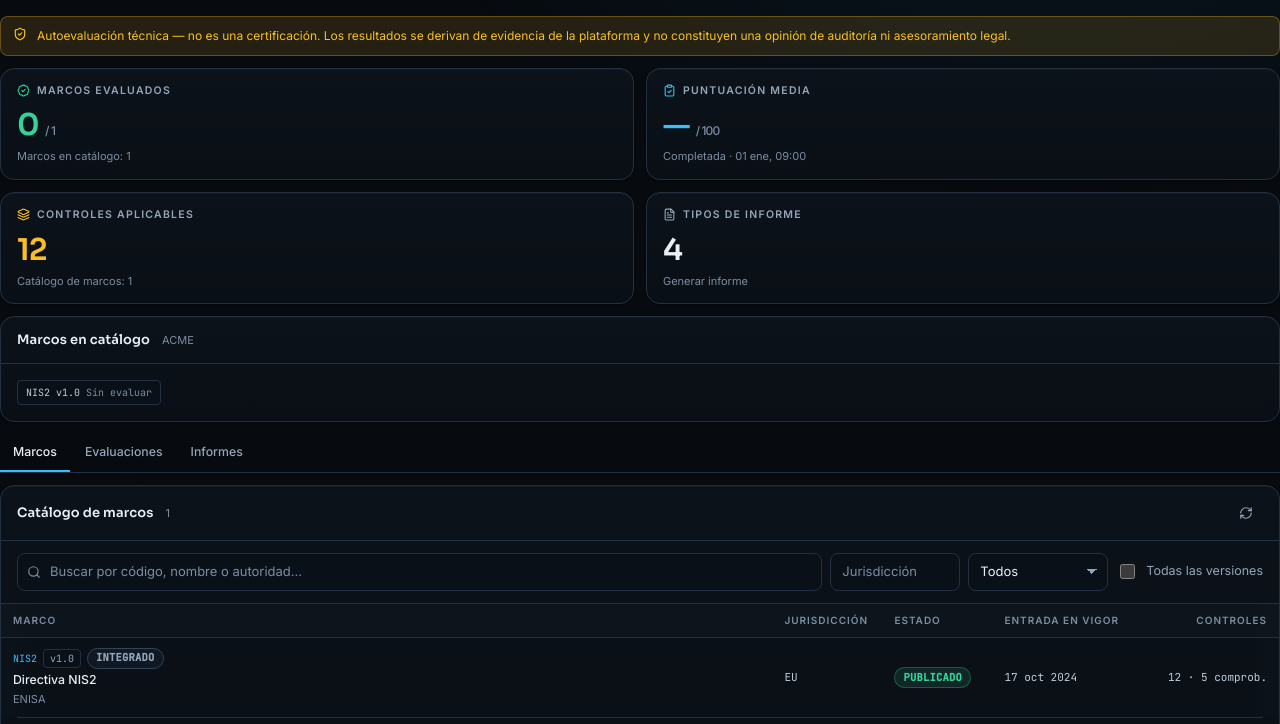
CompliancePage › loads assessments when the assessments tab is selected
Check: the text "Directiva NIS2" is shown, box [13,672,96,686]
Click the tab "Evaluaciones": click(124, 453) [72,434,176,472]
(page scrolled)
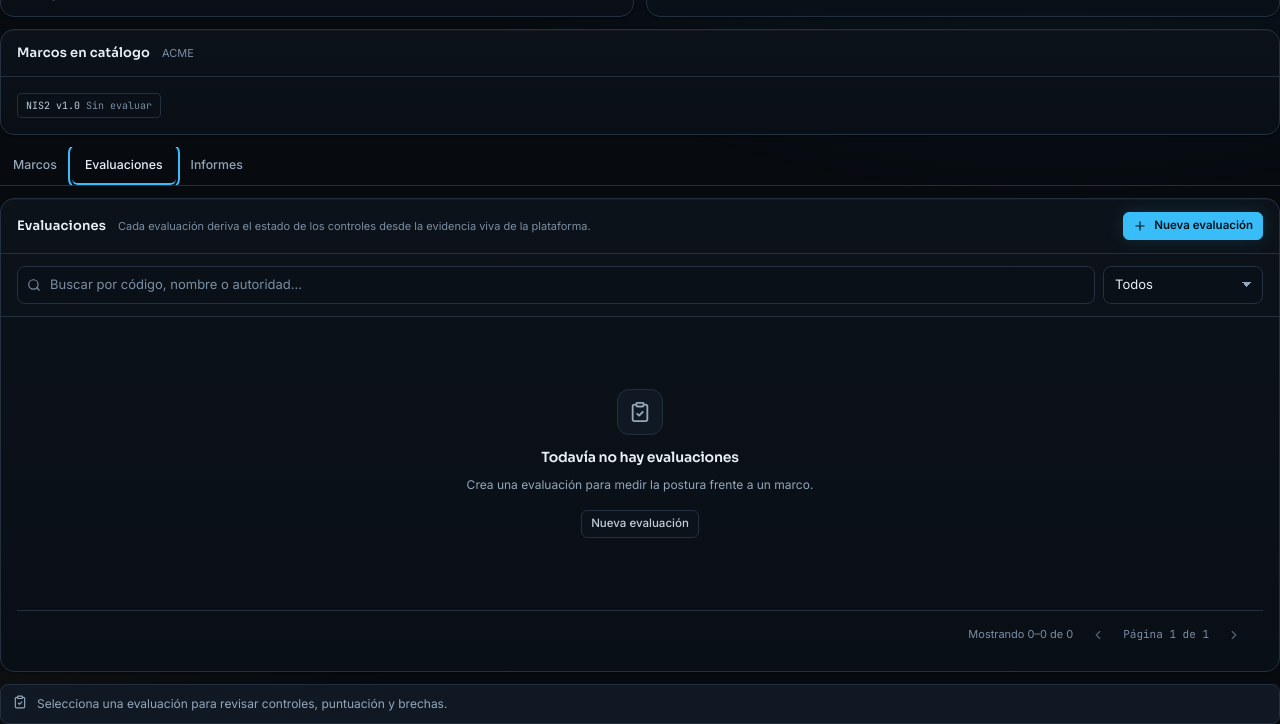
Check: the element with test id "compliance-assessments" is shown
